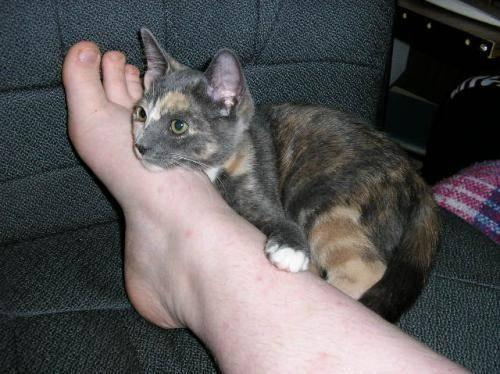cat: (131, 28, 439, 322)
